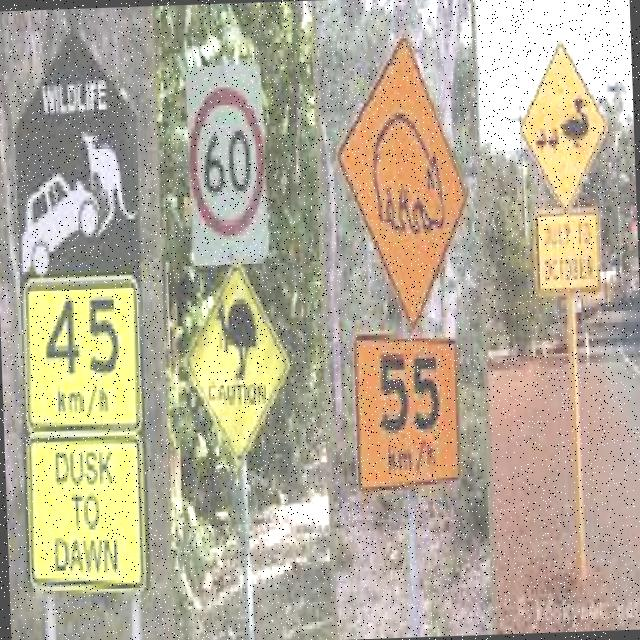Ograniczenie predkosci do 60: (185, 78, 275, 248)
